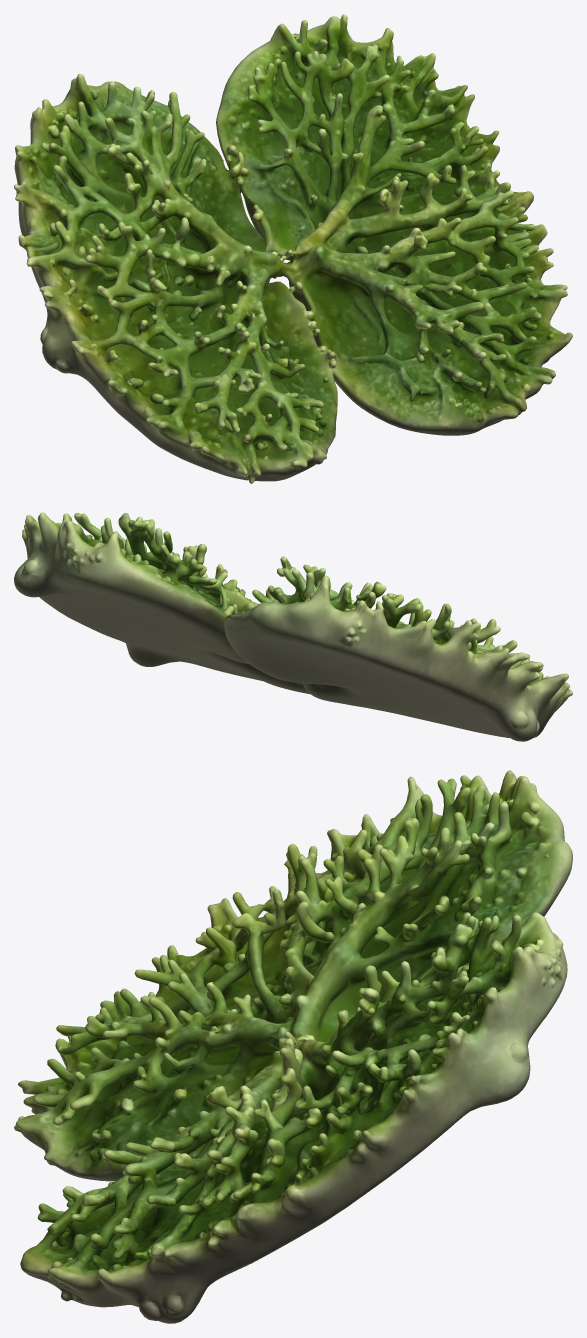
Rendered from desmid.glb.
The picture shows the model from 3 angles, top to bottom: view 1: azimuth 30°, elevation 25°; view 2: azimuth 150°, elevation 25°; view 3: azimuth 270°, elevation 25°; orthographic projection. The views are drawn at different scales.
Parts seen in each view (by area): view 1: tripo_node_19ae2b70-1ad7-4074-bc35-c80c7217d1fe; view 2: tripo_node_19ae2b70-1ad7-4074-bc35-c80c7217d1fe; view 3: tripo_node_19ae2b70-1ad7-4074-bc35-c80c7217d1fe.
Part boxes in pixels (<box>): tripo_node_19ae2b70-1ad7-4074-bc35-c80c7217d1fe: <box>14,14,572,483</box>; tripo_node_19ae2b70-1ad7-4074-bc35-c80c7217d1fe: <box>14,512,572,741</box>; tripo_node_19ae2b70-1ad7-4074-bc35-c80c7217d1fe: <box>14,770,572,1323</box>.
Size of the model in its own units: 0.9788 by 0.5448 by 0.7413.
Materials: 1 (1 with a texture image).
